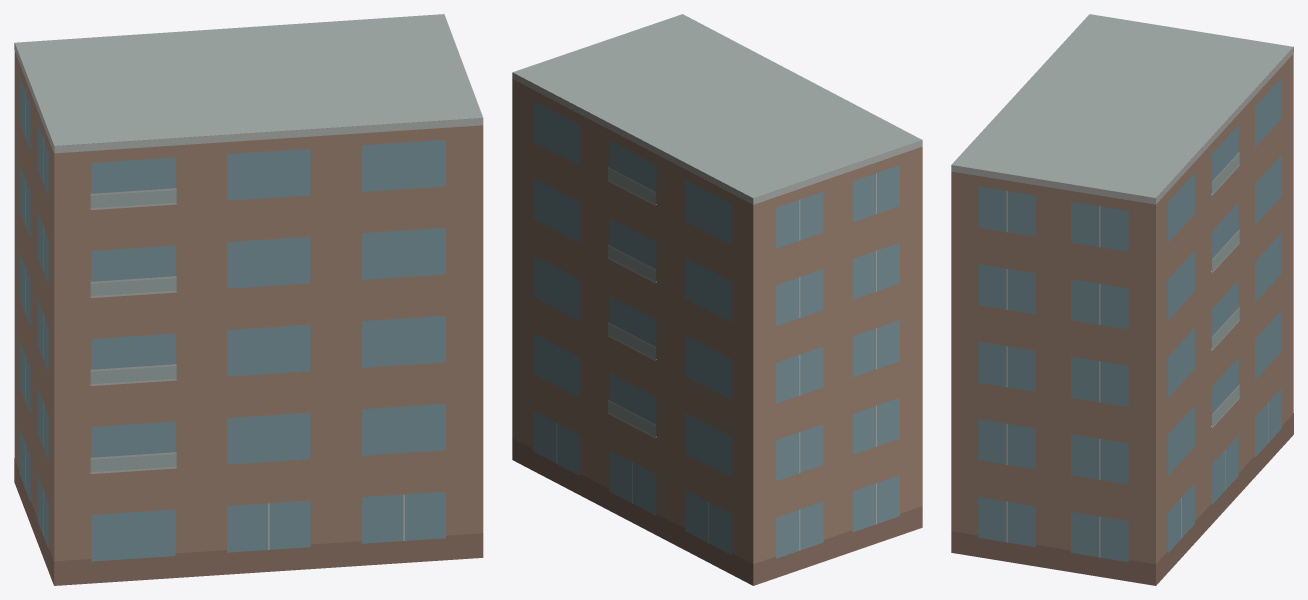
Rendered from survey-upis-32874355.glb.
3 renders of one model, left to right at view 1: azimuth 30°, elevation 25°; view 2: azimuth 150°, elevation 25°; view 3: azimuth 270°, elevation 25°, orthographic. The views are drawn at different scales.
Parts seen in each view (by area): view 1: survey-upis-32874355.tmp; view 2: survey-upis-32874355.tmp; view 3: survey-upis-32874355.tmp.
Part boxes in pixels (bbox=[...]): survey-upis-32874355.tmp: bbox=[14, 14, 483, 585]; survey-upis-32874355.tmp: bbox=[512, 14, 922, 585]; survey-upis-32874355.tmp: bbox=[951, 14, 1293, 585].
Size of the model in its own units: 14.67 by 14.4 by 11.54.
